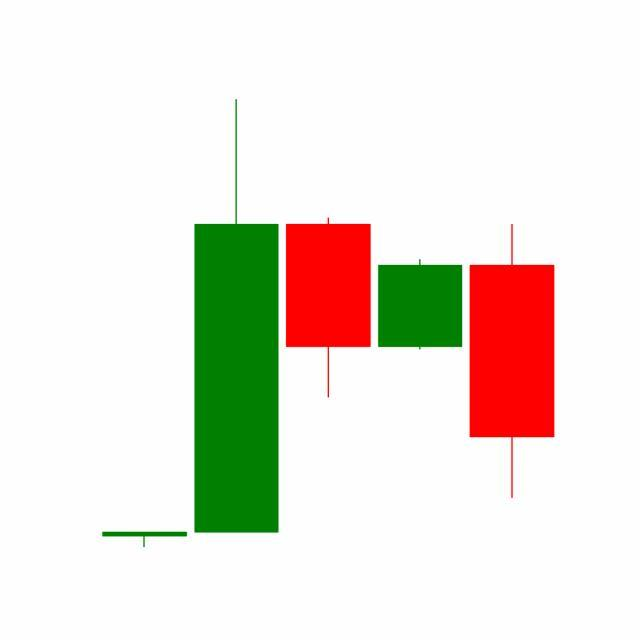Marubozu: (374, 258, 468, 351)
